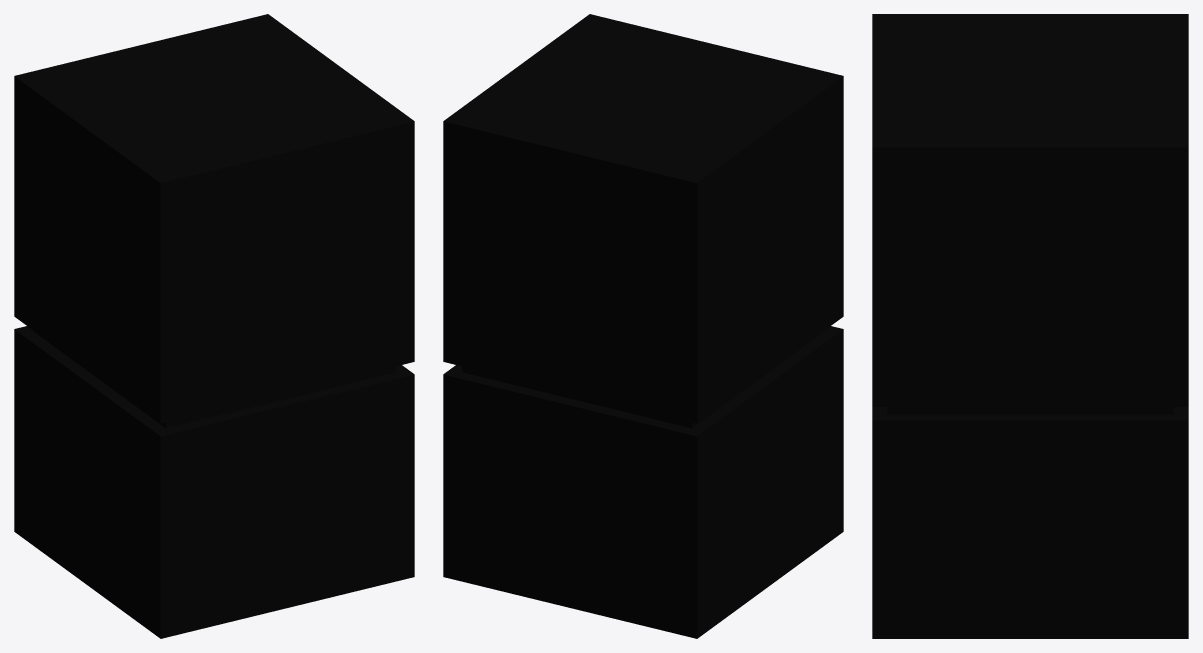
File: penguin.obj
The picture shows the model from 3 angles, left to right: view 1: azimuth 30°, elevation 25°; view 2: azimuth 150°, elevation 25°; view 3: azimuth 270°, elevation 25°; orthographic projection. The views are drawn at different scales.
Visible parts, largest first — view 1: penguin; view 2: penguin; view 3: penguin.
Part boxes in pixels (left/top/right/bottom): penguin: left=14, top=14, right=414, bottom=638; penguin: left=443, top=14, right=843, bottom=638; penguin: left=872, top=14, right=1188, bottom=638.
Bounding box in the file's own units: 2.1 × 3.6 × 2.1.
